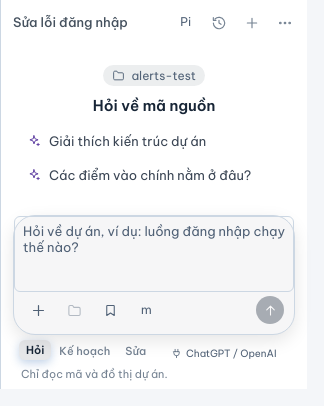
Test case: lỗi provider trong chat › MIN-46 M3: model có cửa sổ nhỏ hiện đúng số token của main, không dùng câu "tăng context window"
Type "hỏi gì đó" into the text box at (154, 254), box [14,216,294,292]
Then press Enter
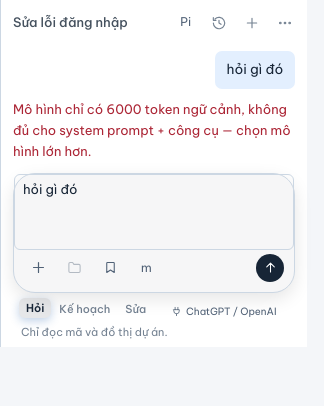
Expected: the button named "Gửi" is shown, [256,254,284,282]
Expected: the text "Mô hình chỉ có 6000 token ngữ cảnh" is shown, [13,101,291,160]
